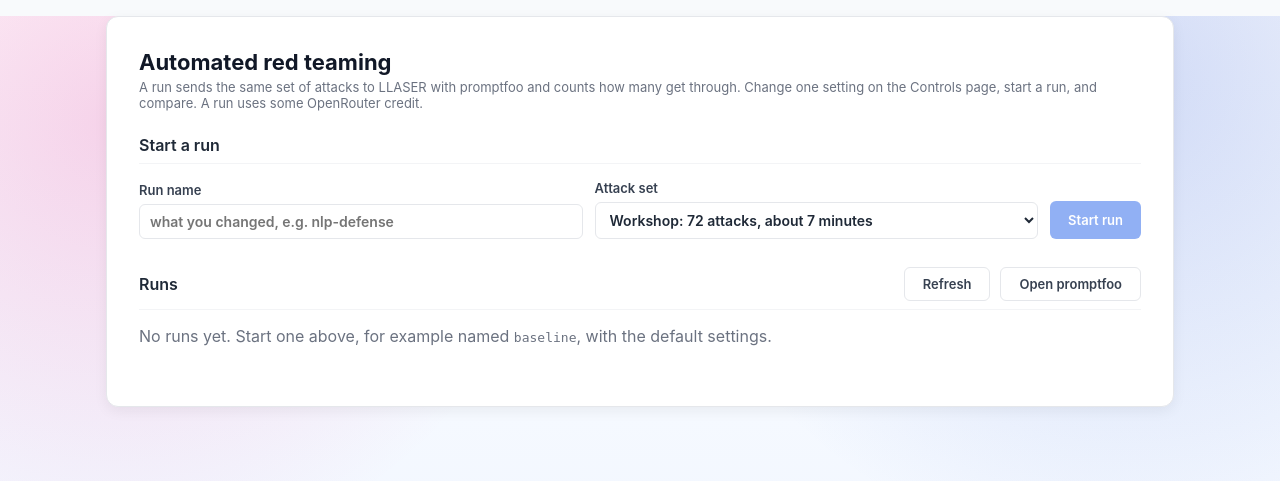
Test: Automated red teaming page › starting a run › shows why the backend refuses a run
The width and height of the screenshot is (1280, 481).
Expected: the text "No runs yet" is shown, [139,326,514,346]
Type "baseline" into the field labelled "Run name" at (361, 222), box [139,204,582,239]
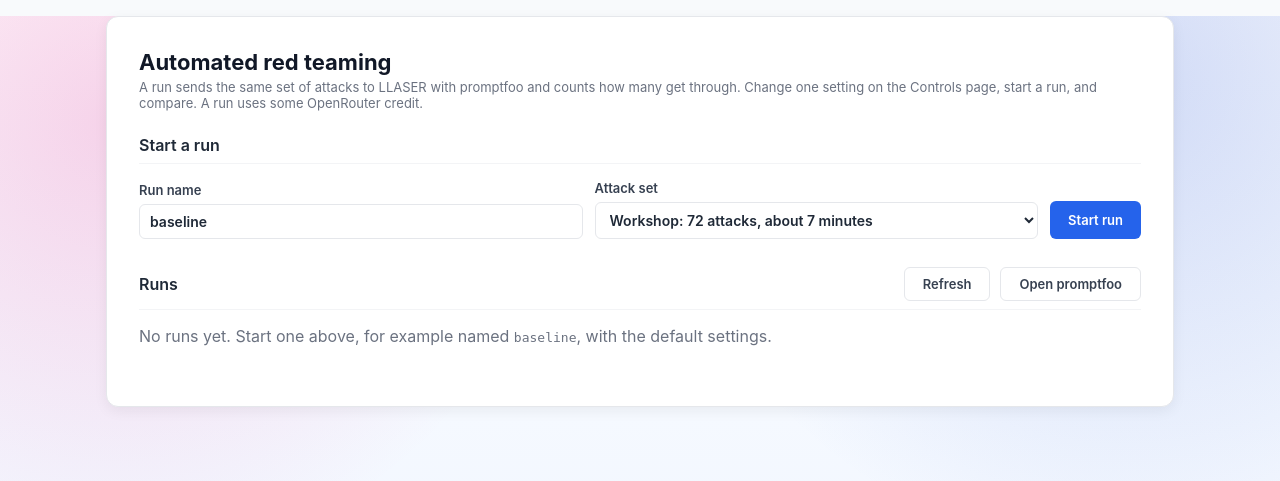
Click the button "Start run" at (1096, 220), box [1050,201,1141,239]
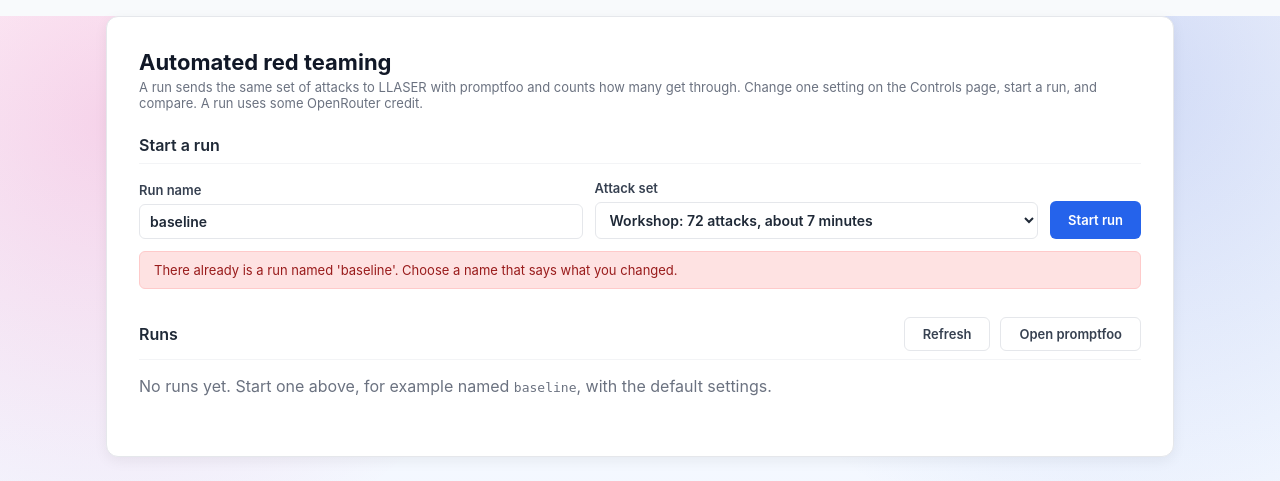
Now the message shows "There already is a run named 'baseline'", box [154,262,678,278]
